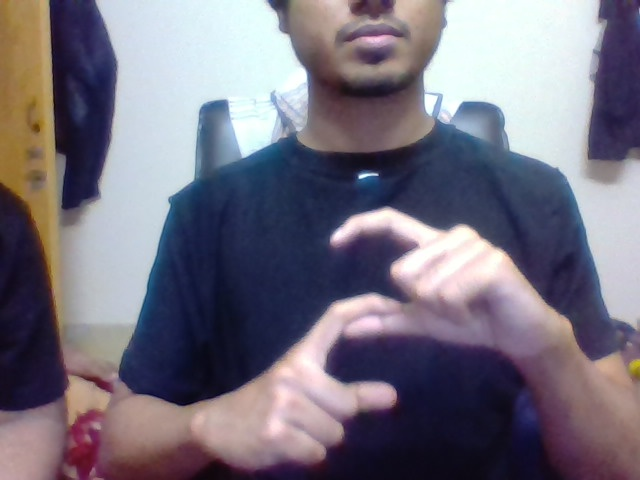S: (310, 205, 417, 412)
